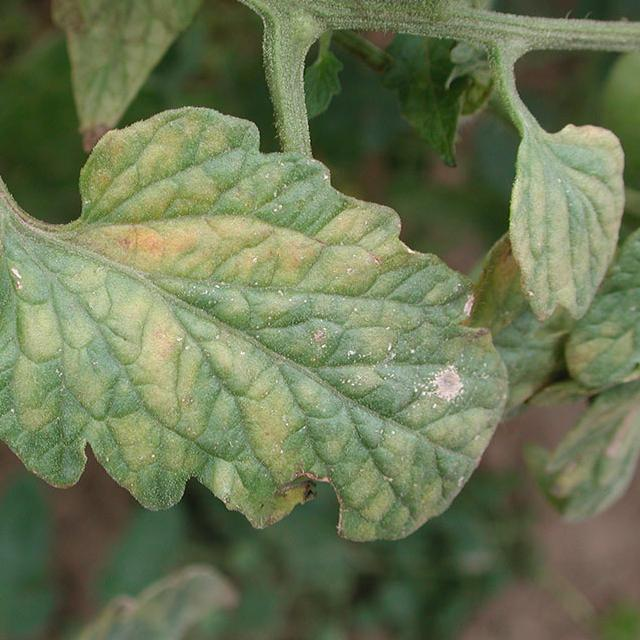Tomato mold leaf: (0, 107, 523, 566), (499, 122, 619, 346)
